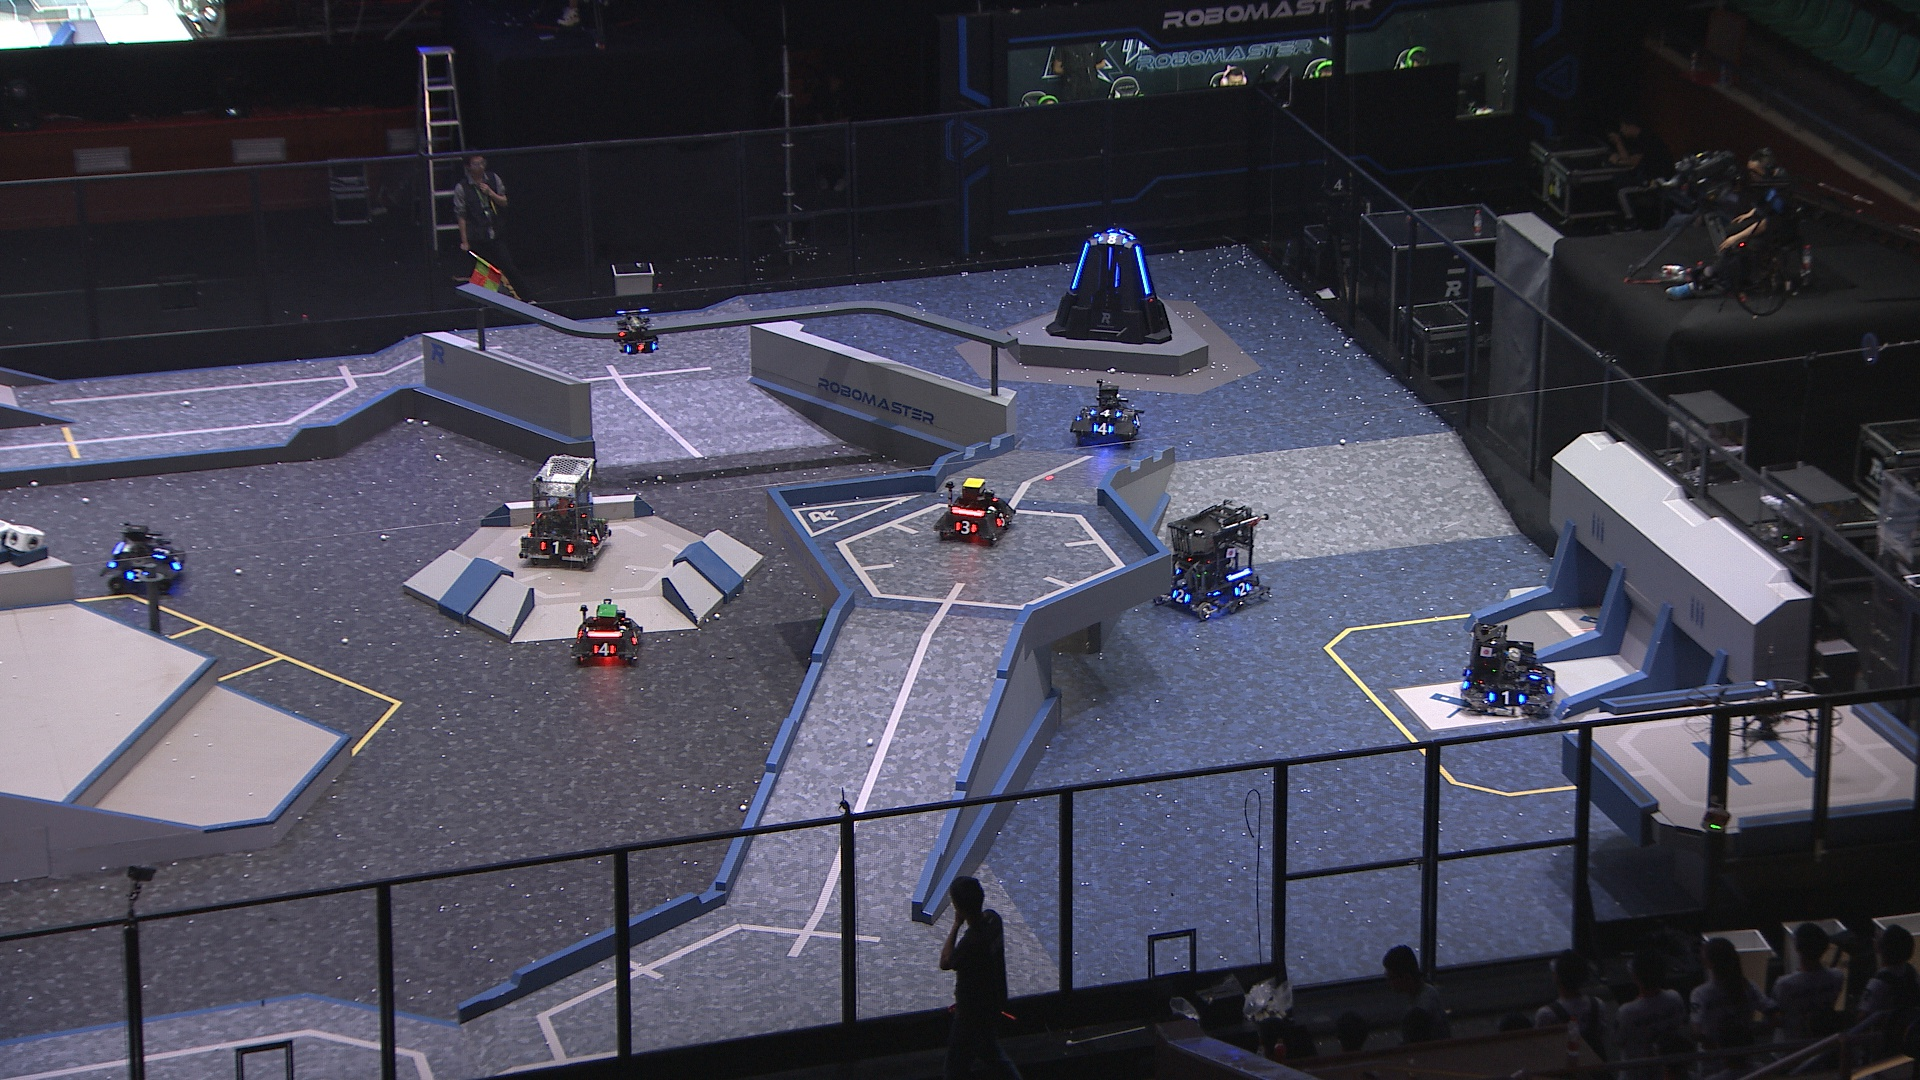armor: (1069, 243, 1093, 291), (1134, 245, 1154, 297), (1485, 688, 1528, 705), (537, 538, 574, 555), (1088, 405, 1125, 418), (1524, 661, 1545, 683), (123, 566, 148, 584), (1091, 419, 1116, 438), (589, 641, 618, 657), (1168, 585, 1191, 605), (953, 518, 978, 535), (624, 342, 659, 353), (993, 509, 1011, 529), (1097, 233, 1127, 245), (149, 545, 171, 560), (1232, 582, 1251, 597), (589, 526, 605, 543), (1105, 247, 1116, 272), (1544, 678, 1556, 694), (1130, 411, 1141, 429)
base: (1043, 225, 1174, 344)
car: (1153, 498, 1273, 624), (516, 452, 615, 571), (1461, 618, 1557, 717), (100, 524, 186, 597), (931, 476, 1019, 547), (572, 597, 646, 669), (1069, 381, 1145, 447)
watcher: (615, 309, 662, 357)
